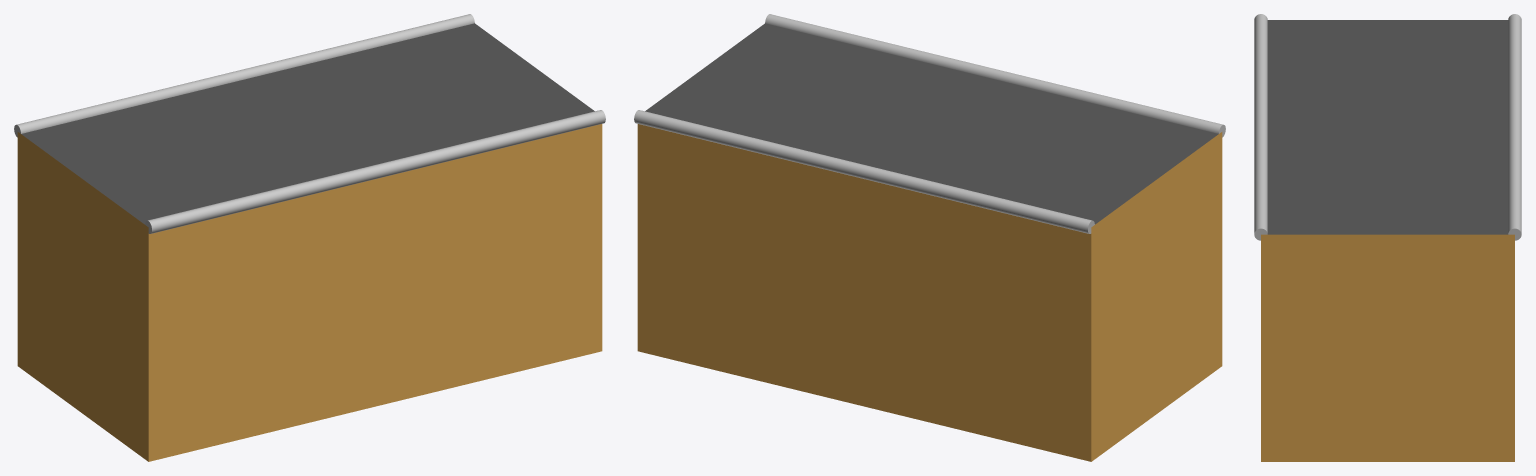
File: Skate_Box_Half_Double_Rail_01.FBX
3 views of the same model, side by side, from view 1: azimuth 30°, elevation 25°; view 2: azimuth 150°, elevation 25°; view 3: azimuth 270°, elevation 25° (orthographic). The views are drawn at different scales.
Visible parts, largest first — view 1: Skate_Box_Half_Double_Rail_01; view 2: Skate_Box_Half_Double_Rail_01; view 3: Skate_Box_Half_Double_Rail_01.
Part boxes in pixels (x1,y1,x2,y2): Skate_Box_Half_Double_Rail_01: [14, 14, 605, 461]; Skate_Box_Half_Double_Rail_01: [634, 14, 1225, 461]; Skate_Box_Half_Double_Rail_01: [1254, 14, 1521, 461].
Bounding box in the file's own units: 3 × 1.52 × 1.58.
